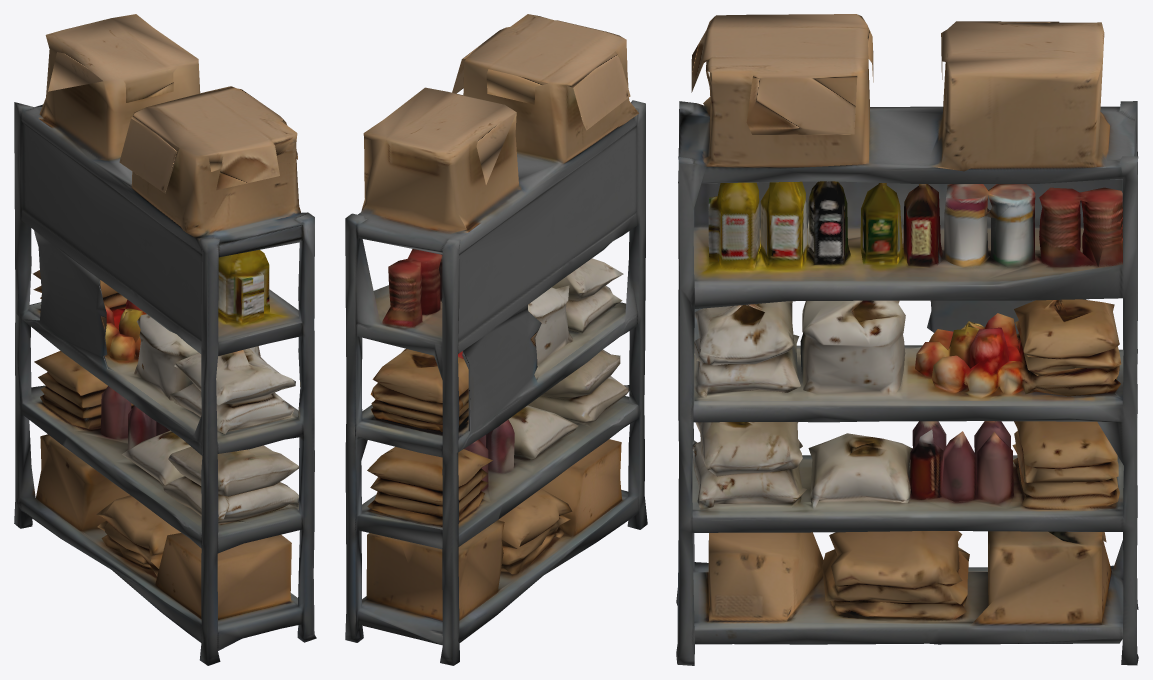
Rendered from estanteria.glb.
3 views of the same model, side by side, from view 1: azimuth 30°, elevation 25°; view 2: azimuth 150°, elevation 25°; view 3: azimuth 270°, elevation 25° (orthographic). The views are drawn at different scales.
Parts seen in each view (by area): view 1: tripo_node_f0217026-b234-4f85-ae24-ca1678485e63; view 2: tripo_node_f0217026-b234-4f85-ae24-ca1678485e63; view 3: tripo_node_f0217026-b234-4f85-ae24-ca1678485e63.
Boxes of the visible parts, x1,y1,x2,y2 form: tripo_node_f0217026-b234-4f85-ae24-ca1678485e63: (14, 14, 316, 665); tripo_node_f0217026-b234-4f85-ae24-ca1678485e63: (345, 14, 647, 665); tripo_node_f0217026-b234-4f85-ae24-ca1678485e63: (676, 14, 1138, 665).
Bounding box in the file's own units: 0.2794 × 0.9789 × 0.6937.
Materials: 1 (1 with a texture image).
